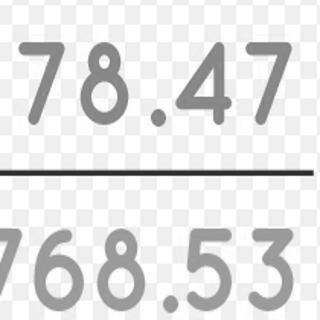.: (146, 105, 168, 131), (160, 292, 181, 314)
3: (247, 224, 296, 311)
4: (170, 37, 236, 129)
5: (182, 223, 233, 313)
6: (30, 223, 88, 314)
7: (239, 37, 295, 127), (13, 38, 67, 128)
8: (77, 35, 132, 132), (91, 224, 149, 314)
